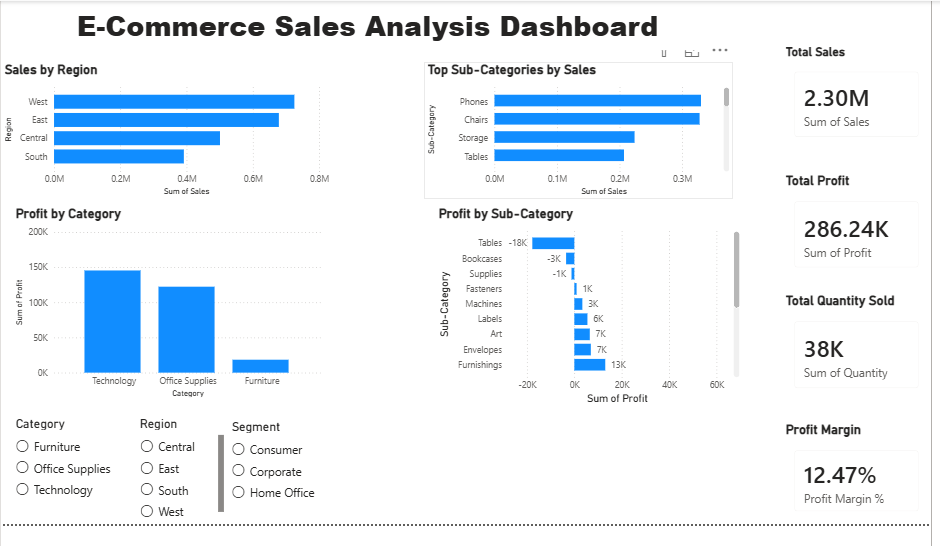

This screenshot's page, from the dashboard's own definition file:
{"tool":"powerbi","page":{"name":"Page 1","canvas":[1280,720],"ordinal":0},"visuals":[{"type":"cardVisual","title":"Total Sales","fields":{"Data":["Sum(Superstore_Cleaned.Sales)"]},"box":[1074.9,59.2,205.1,145.9],"z":0},{"type":"cardVisual","title":"Total Profit","fields":{"Data":["Sum(Superstore_Cleaned.Profit)"]},"box":[1074.9,236.7,205.1,147.3],"z":1000},{"type":"cardVisual","title":"Total Quantity Sold","fields":{"Data":["Sum(Superstore_Cleaned.Quantity)"]},"box":[1074.9,401.9,205.1,148.6],"z":2000},{"type":"cardVisual","title":"Profit Margin","fields":{"Data":["Superstore_Cleaned.Profit Margin %"]},"box":[1074.9,579.4,205.1,140.4],"z":3000},{"type":"clusteredColumnChart","title":"Profit by Category","fields":{"Category":["Superstore_Cleaned.Category"],"Y":["Sum(Superstore_Cleaned.Profit)"]},"box":[15.7,282.8,430.7,268.4],"z":4000},{"type":"clusteredBarChart","title":"Profit by Sub-Category","fields":{"Category":["Superstore_Cleaned.Sub-Category"],"Y":["Sum(Superstore_Cleaned.Profit)"]},"box":[596.9,282.8,424.1,277.5],"z":5000},{"type":"barChart","title":"Sales by Region","fields":{"Category":["Superstore_Cleaned.Region"],"Y":["Sum(Superstore_Cleaned.Sales)"]},"box":[0,83.8,456.9,188.5],"z":6000},{"type":"barChart","title":"Top Sub-Categories by Sales","fields":{"Category":["Superstore_Cleaned.Sub-Category"],"Y":["Sum(Superstore_Cleaned.Sales)"]},"box":[582.5,83.8,425.5,188.5],"z":7000},{"type":"listSlicer","fields":{"Values":["Superstore_Cleaned.Region"]},"box":[185.9,570.8,127,149.2],"z":8000},{"type":"listSlicer","fields":{"Values":["Superstore_Cleaned.Category"]},"box":[15.7,570.8,149.2,129.6],"z":9000},{"type":"listSlicer","fields":{"Values":["Superstore_Cleaned.Segment"]},"box":[312.9,574.7,146.6,141.4],"z":10000},{"type":"textbox","box":[99.5,2.6,878.4,65.5],"z":13000}]}

Visuals, with their boxes on the page's 1280x720 design canvas (x1, y1, x2, y2). These are canvas units, not pixel positions in the 940x546 screenshot, which may show the page scaled, cropped or inside an application window:
"Total Sales" cardVisual: (1075, 59, 1280, 205)
"Total Profit" cardVisual: (1075, 237, 1280, 384)
"Total Quantity Sold" cardVisual: (1075, 402, 1280, 550)
"Profit Margin" cardVisual: (1075, 579, 1280, 720)
"Profit by Category" clusteredColumnChart: (16, 283, 446, 551)
"Profit by Sub-Category" clusteredBarChart: (597, 283, 1021, 560)
"Sales by Region" barChart: (0, 84, 457, 272)
"Top Sub-Categories by Sales" barChart: (582, 84, 1008, 272)
listSlicer - Superstore_Cleaned.Region: (186, 571, 313, 720)
listSlicer - Superstore_Cleaned.Category: (16, 571, 165, 700)
listSlicer - Superstore_Cleaned.Segment: (313, 575, 460, 716)
textbox: (100, 3, 978, 68)
